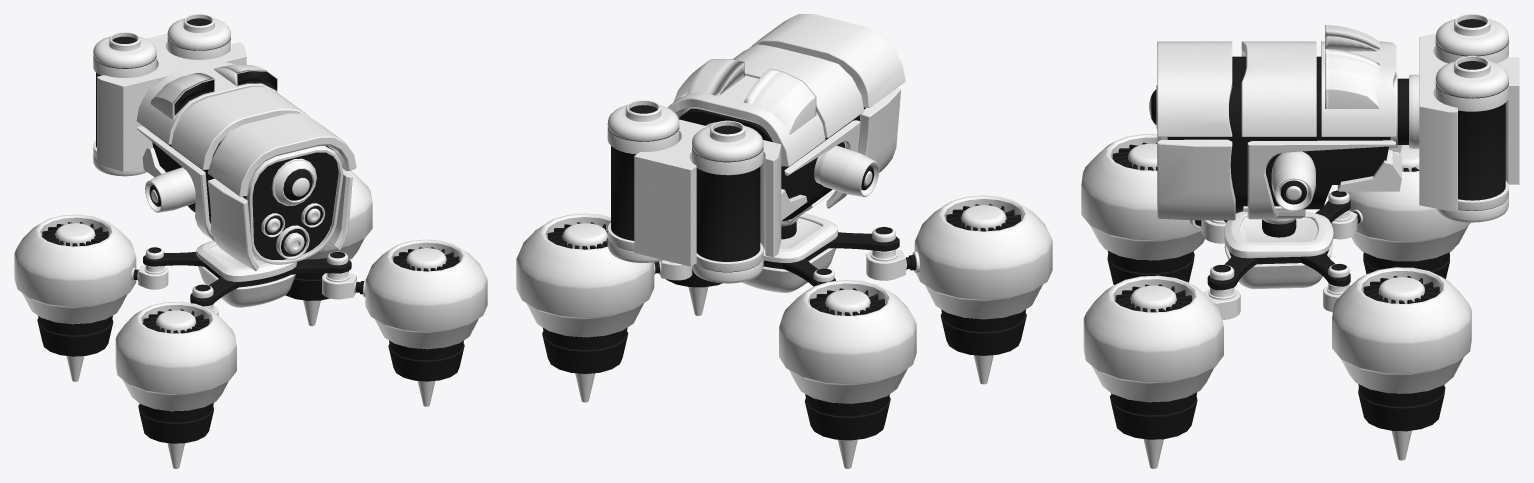
Rendered from Robot 3.fbx.
3 renders of one model, left to right at view 1: azimuth 30°, elevation 25°; view 2: azimuth 150°, elevation 25°; view 3: azimuth 270°, elevation 25°, orthographic. The views are drawn at different scales.
Visible parts, largest first — view 1: Engine 3 kész, Engine 1 kész, Engine 4 kész, Fej kész, Akummulátor tartó kész, Burkolat fent első kész, Akkumulátor kész, Burkolat fent közép kész, Burkolat oldal első kész, Aésó rész főelem, Engine 2 kész, Burkolaton beömlő kész (+7 smaller); view 2: Engine 4 kész, Engine 1 kész, Akkumulátor kész, Engine 2 kész, Akummulátor tartó kész, Burkolat fent első kész, Burkolat fent közép kész, Burkolaton beömlő kész, Burkolat fent hársó kész, Aésó rész főelem, Fülek kész, Burkolat oldal első kész (+4 smaller); view 3: Engine 3 kész, Engine 2 kész, Engine 4 kész, Akkumulátor kész, Engine 1 kész, Akummulátor tartó kész, Burkolat fent közép kész, Burkolat fent első kész, Fej kész, Burkolat oldal első kész, Aésó rész főelem, Burkolaton beömlő kész (+7 smaller).
Boxes of the visible parts, left/top/right/bottom form: Engine 3 kész: left=322, top=239, right=487, bottom=406; Engine 1 kész: left=14, top=214, right=168, bottom=381; Engine 4 kész: left=115, top=284, right=236, bottom=468; Fej kész: left=151, top=132, right=343, bottom=264; Akummulátor tartó kész: left=97, top=33, right=246, bottom=171; Burkolat fent első kész: left=207, top=113, right=356, bottom=196; Akkumulátor kész: left=93, top=14, right=230, bottom=176; Burkolat fent közép kész: left=171, top=86, right=310, bottom=169; Burkolat oldal első kész: left=207, top=168, right=352, bottom=270; Aésó rész főelem: left=196, top=240, right=296, bottom=307; Engine 2 kész: left=285, top=170, right=372, bottom=326; Burkolaton beömlő kész: left=150, top=64, right=277, bottom=120; Engine 4 kész: left=866, top=195, right=1052, bottom=384; Engine 1 kész: left=779, top=268, right=916, bottom=468; Akkumulátor kész: left=607, top=100, right=763, bottom=283; Engine 2 kész: left=516, top=213, right=692, bottom=402; Akummulátor tartó kész: left=634, top=119, right=781, bottom=266; Burkolat fent első kész: left=750, top=14, right=905, bottom=107; Burkolat fent közép kész: left=733, top=44, right=864, bottom=137; Burkolaton beömlő kész: left=673, top=59, right=816, bottom=134; Burkolat fent hársó kész: left=667, top=75, right=825, bottom=166; Aésó rész főelem: left=742, top=213, right=837, bottom=292; Fülek kész: left=814, top=145, right=879, bottom=196; Burkolat oldal első kész: left=858, top=88, right=900, bottom=172; Engine 3 kész: left=1083, top=264, right=1240, bottom=468; Engine 2 kész: left=1323, top=263, right=1471, bottom=460; Engine 4 kész: left=1081, top=134, right=1225, bottom=284; Akkumulátor kész: left=1435, top=14, right=1508, bottom=222; Engine 1 kész: left=1328, top=145, right=1470, bottom=279; Akummulátor tartó kész: left=1419, top=33, right=1519, bottom=210; Burkolat fent közép kész: left=1241, top=41, right=1316, bottom=136; Burkolat fent első kész: left=1157, top=41, right=1232, bottom=136; Fej kész: left=1161, top=56, right=1390, bottom=209; Burkolat oldal első kész: left=1157, top=137, right=1235, bottom=220; Aésó rész főelem: left=1224, top=211, right=1333, bottom=289; Burkolaton beömlő kész: left=1325, top=25, right=1379, bottom=108.
Bounding box in the file's own units: 423 × 347 × 390.
Materials: 44 (24 with a texture image).
